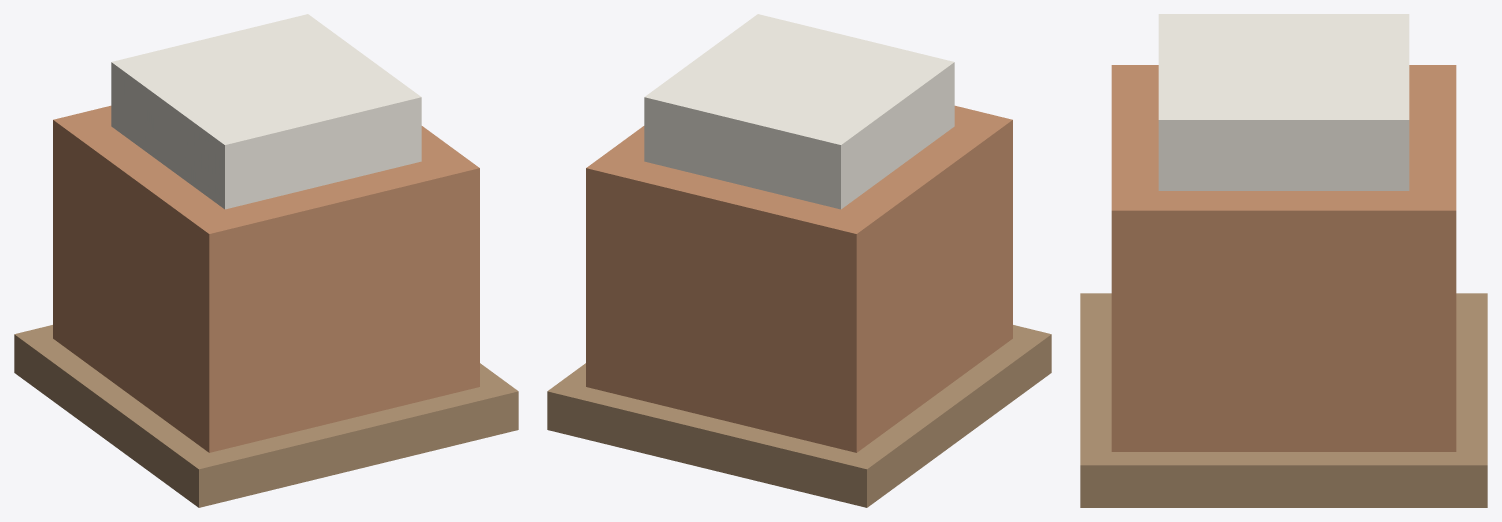
File: Item_DS_Food_Stew.glb
The picture shows the model from 3 angles, left to right: view 1: azimuth 30°, elevation 25°; view 2: azimuth 150°, elevation 25°; view 3: azimuth 270°, elevation 25°; orthographic projection. The views are drawn at different scales.
Parts seen in each view (by area): view 1: Cube, Cube.001, Cube.002; view 2: Cube, Cube.001, Cube.002; view 3: Cube, Cube.001, Cube.002.
Part boxes in pixels (x1,y1,x2,y2): Cube: [53, 105, 479, 452]; Cube.001: [111, 14, 421, 209]; Cube.002: [14, 325, 518, 507]; Cube: [586, 105, 1012, 452]; Cube.001: [644, 14, 954, 209]; Cube.002: [547, 325, 1051, 507]; Cube: [1111, 65, 1456, 451]; Cube.001: [1158, 14, 1409, 190]; Cube.002: [1080, 293, 1487, 507].
Size of the model in its own units: 0.26 by 0.25 by 0.26.
